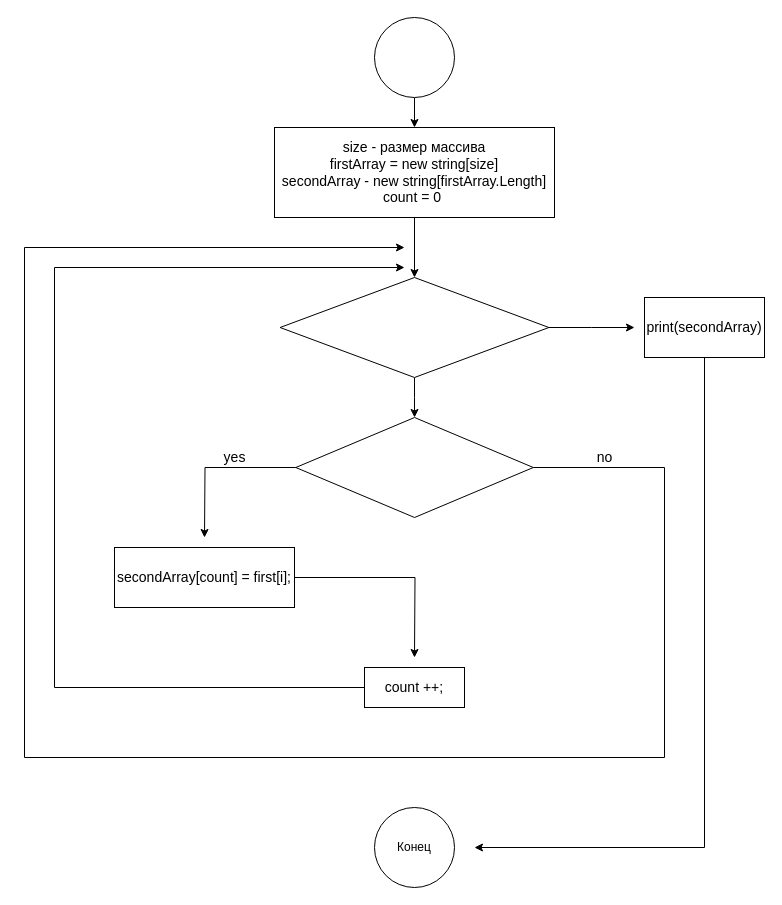
This 782x905 diagram has some shape labels left out. Here are the shapes that lost their labels. From the top down, the box of each, then its label:
(374, 16, 454, 98): Начало
(279, 276, 549, 378): for(int = 0; i < firstArray.Length; i++)
(295, 416, 533, 518): if(firstArray[i].Length <= 3)
